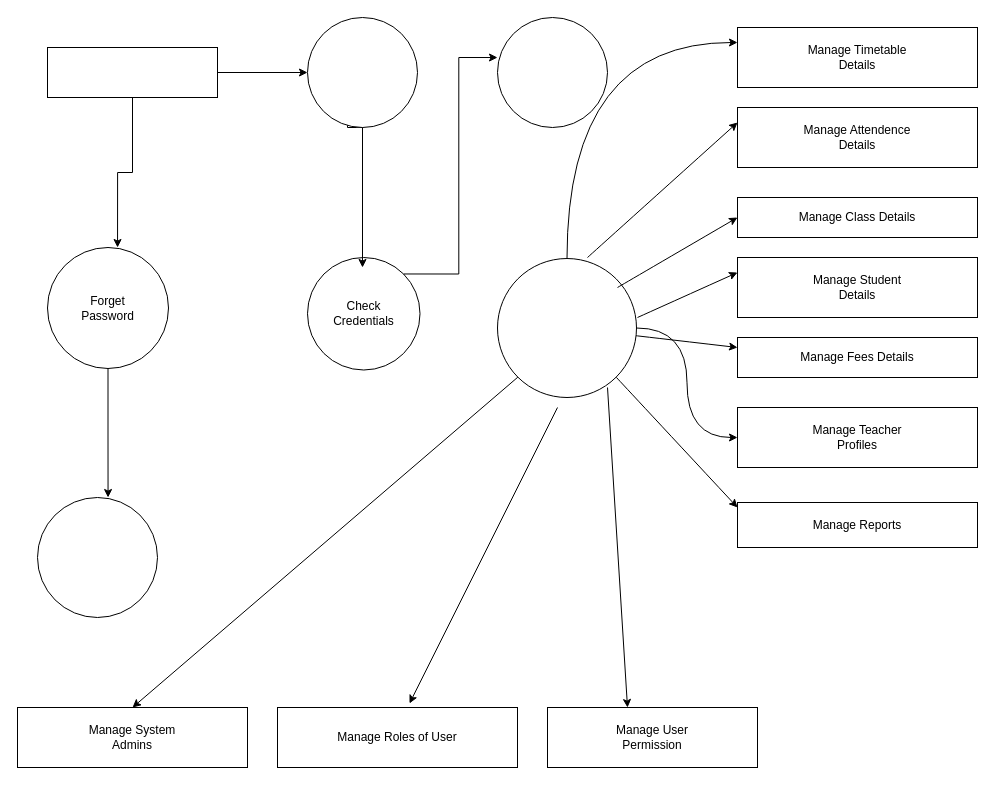
This 995x785 diagram has some shape labels left out. Each missing label, with the box of its shape:
Admin: (46, 46, 218, 98)
Check Roles of Access: (496, 16, 608, 128)
Login to System: (306, 16, 418, 128)
Manage Modules: (496, 258, 636, 398)
Send Email to User: (36, 496, 158, 618)
